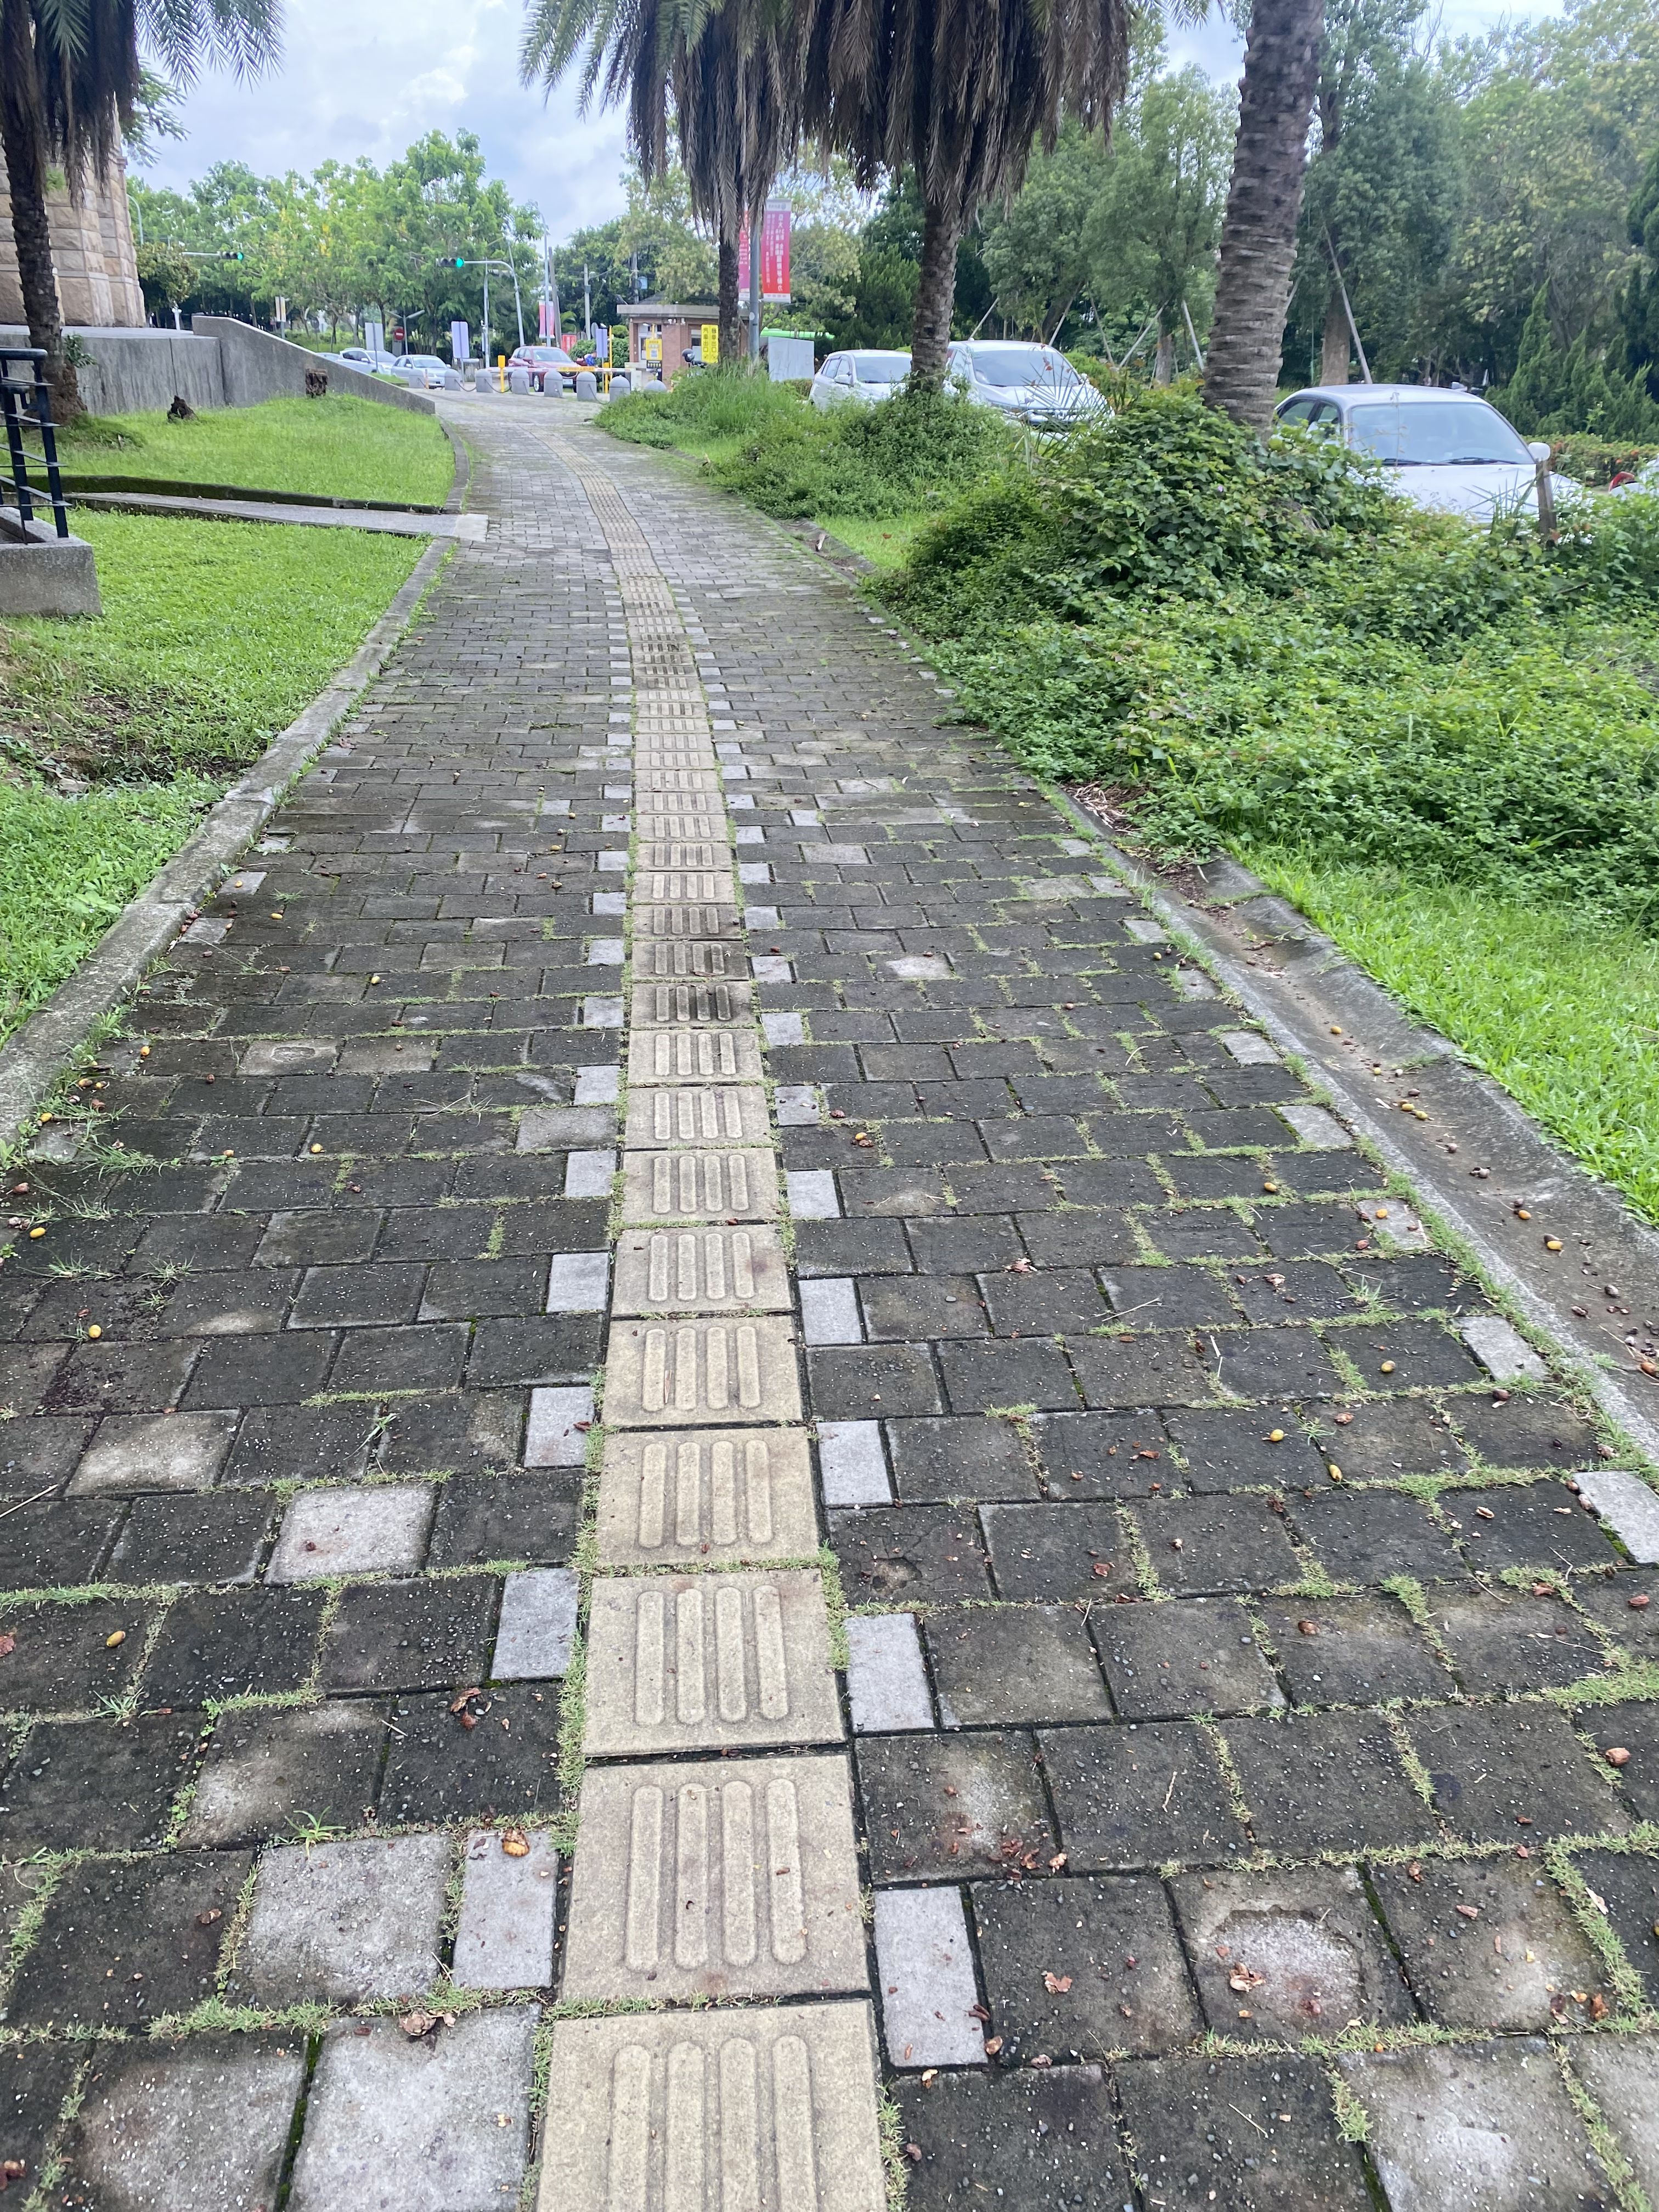0: (3, 636, 1659, 2212)
sidewalk: (394, 354, 1047, 1501)
